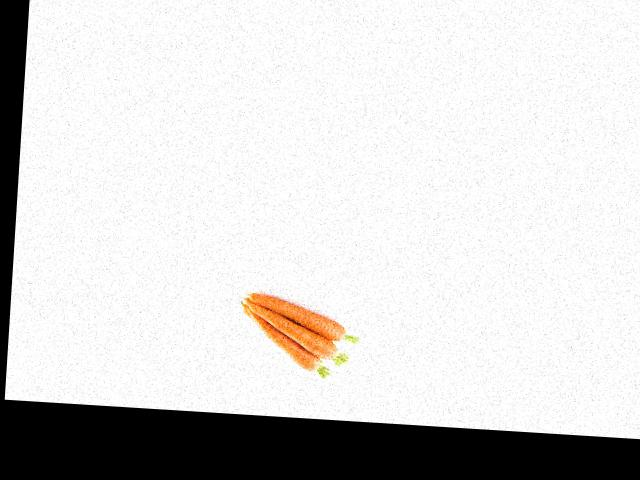carrot: (247, 290, 357, 344)
